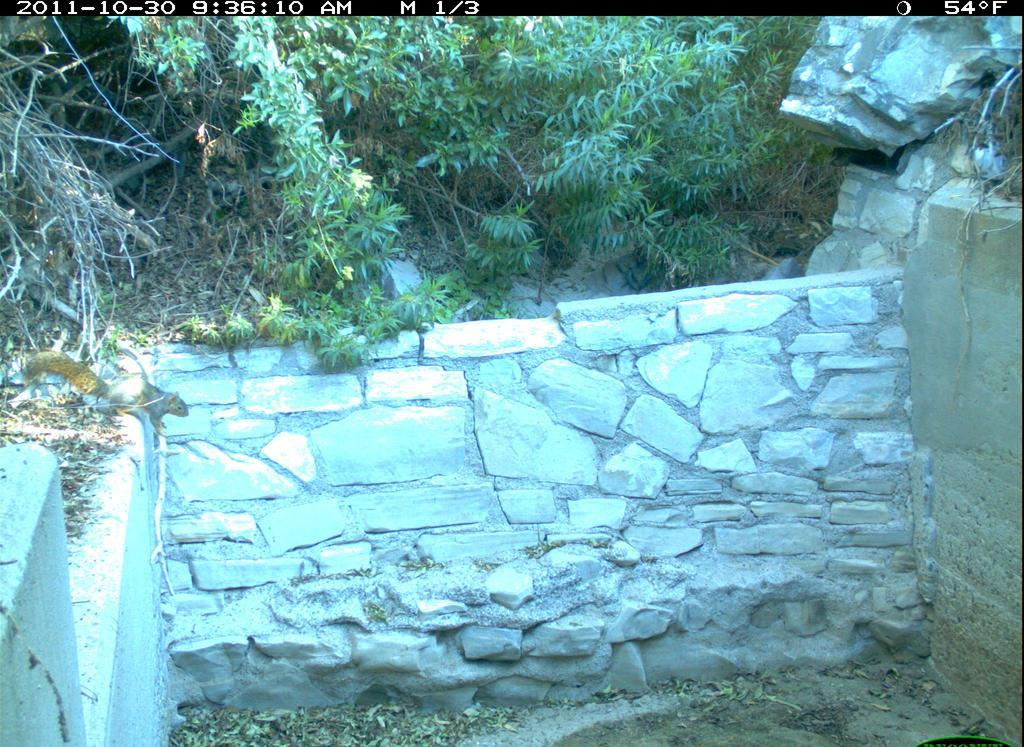squirrel: (17, 327, 208, 442)
